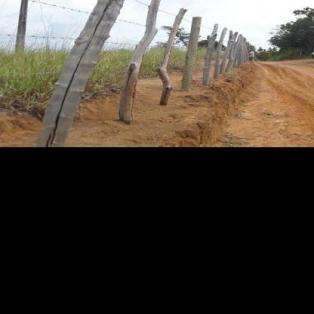Poste: (11, 0, 42, 54)
